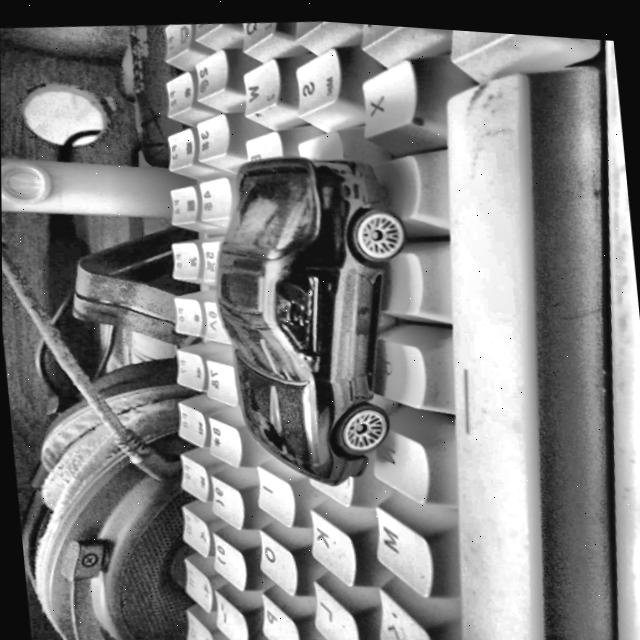car: (202, 137, 428, 493)
